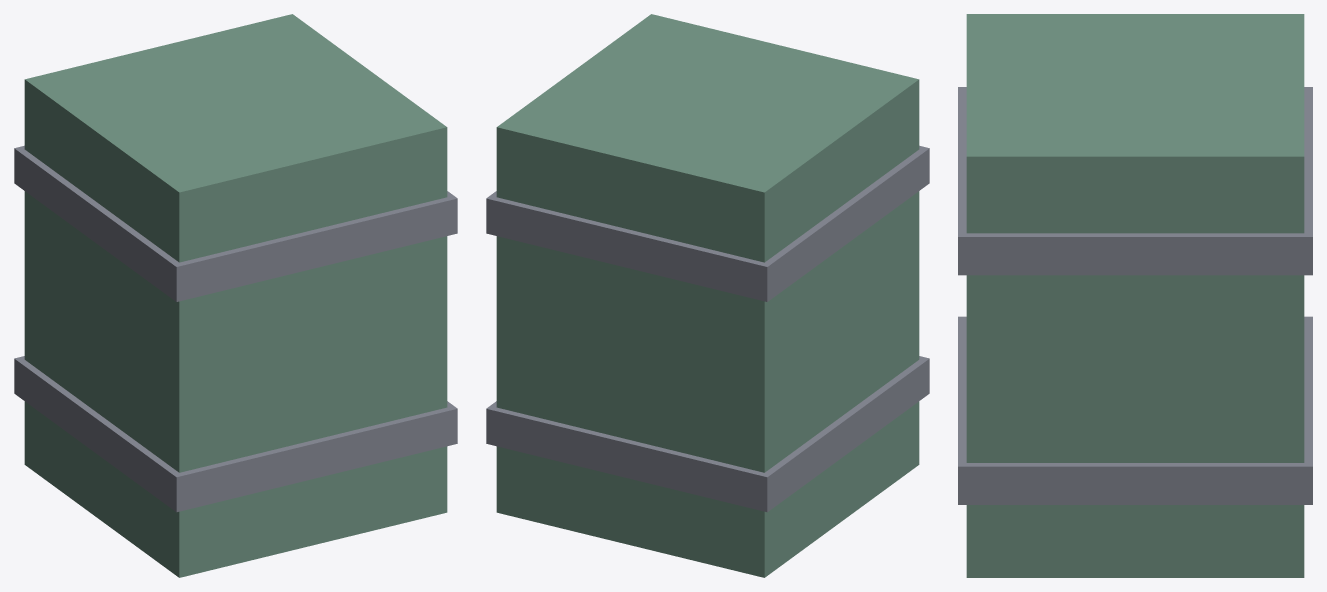
File: furn_rain_barrel.glb
3 renders of one model, left to right at view 1: azimuth 30°, elevation 25°; view 2: azimuth 150°, elevation 25°; view 3: azimuth 270°, elevation 25°, orthographic. The views are drawn at different scales.
Parts seen in each view (by area): view 1: furn_rain_barrel; view 2: furn_rain_barrel; view 3: furn_rain_barrel.
Part boxes in pixels (x1,y1,x2,y2): furn_rain_barrel: [14, 14, 457, 577]; furn_rain_barrel: [486, 14, 929, 577]; furn_rain_barrel: [958, 14, 1312, 577].
Bounding box in the file's own units: 0.84 × 1.1 × 0.84.
